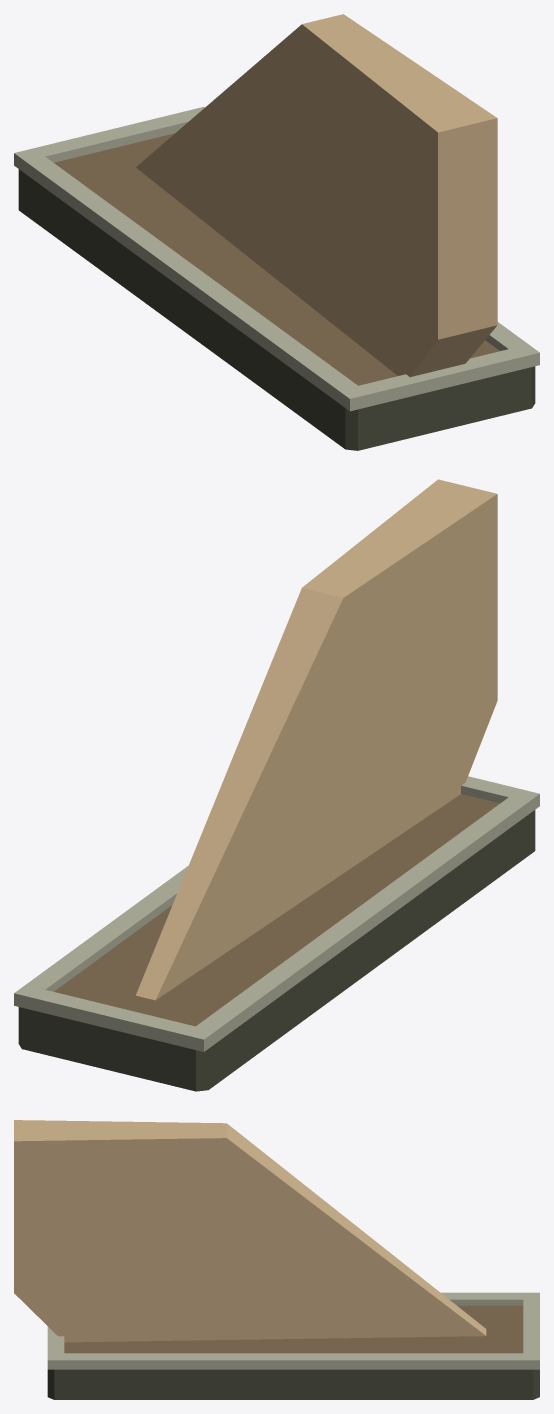
Rendered from vge_mech_heatsink.obj.
3 renders of one model, top to bottom at view 1: azimuth 30°, elevation 25°; view 2: azimuth 150°, elevation 25°; view 3: azimuth 270°, elevation 25°, orthographic. The views are drawn at different scales.
Visible parts, largest first — view 1: vge_mech_heatsink_6, vge_mech_heatsink_0, vge_mech_heatsink_5, vge_mech_heatsink_3, vge_mech_heatsink_1, vge_mech_heatsink_2, vge_mech_heatsink_4; view 2: vge_mech_heatsink_6, vge_mech_heatsink_0, vge_mech_heatsink_5, vge_mech_heatsink_3, vge_mech_heatsink_2, vge_mech_heatsink_4, vge_mech_heatsink_1; view 3: vge_mech_heatsink_6, vge_mech_heatsink_0, vge_mech_heatsink_5, vge_mech_heatsink_4, vge_mech_heatsink_2, vge_mech_heatsink_3, vge_mech_heatsink_1.
Part boxes in pixels (x1,y1,x2,y2): vge_mech_heatsink_6: (136, 14, 497, 376); vge_mech_heatsink_0: (18, 169, 535, 450); vge_mech_heatsink_5: (54, 133, 499, 385); vge_mech_heatsink_3: (14, 149, 369, 410); vge_mech_heatsink_1: (338, 346, 539, 411); vge_mech_heatsink_2: (14, 107, 204, 173); vge_mech_heatsink_4: (185, 107, 539, 369); vge_mech_heatsink_6: (136, 479, 497, 1000); vge_mech_heatsink_0: (18, 810, 535, 1091); vge_mech_heatsink_5: (54, 794, 499, 1026); vge_mech_heatsink_3: (184, 789, 539, 1051); vge_mech_heatsink_2: (14, 985, 215, 1051); vge_mech_heatsink_4: (14, 866, 188, 1010); vge_mech_heatsink_1: (461, 776, 539, 812); vge_mech_heatsink_6: (14, 1120, 486, 1342); vge_mech_heatsink_0: (47, 1369, 539, 1399); vge_mech_heatsink_5: (64, 1305, 523, 1353); vge_mech_heatsink_4: (48, 1353, 539, 1369); vge_mech_heatsink_2: (523, 1292, 539, 1369); vge_mech_heatsink_3: (441, 1292, 539, 1305); vge_mech_heatsink_1: (47, 1326, 64, 1369).
Size of the model in its own units: 0.96 by 1.55 by 3.14.
